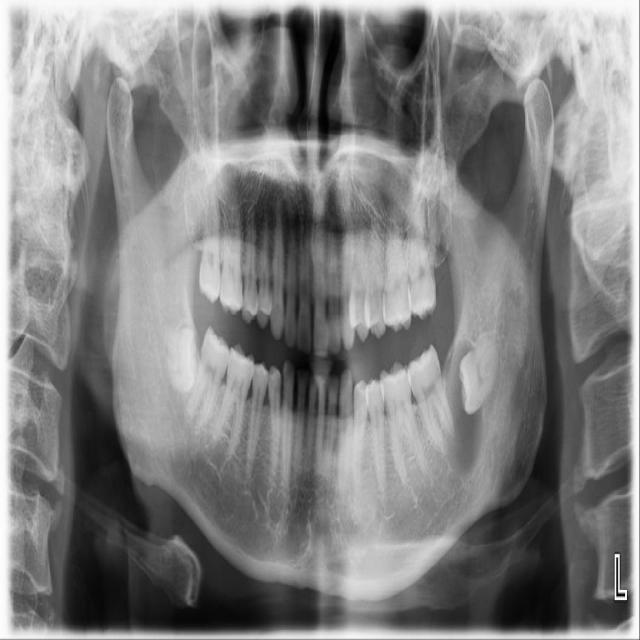impacted tooth: (455, 327, 502, 414), (157, 329, 197, 392)
